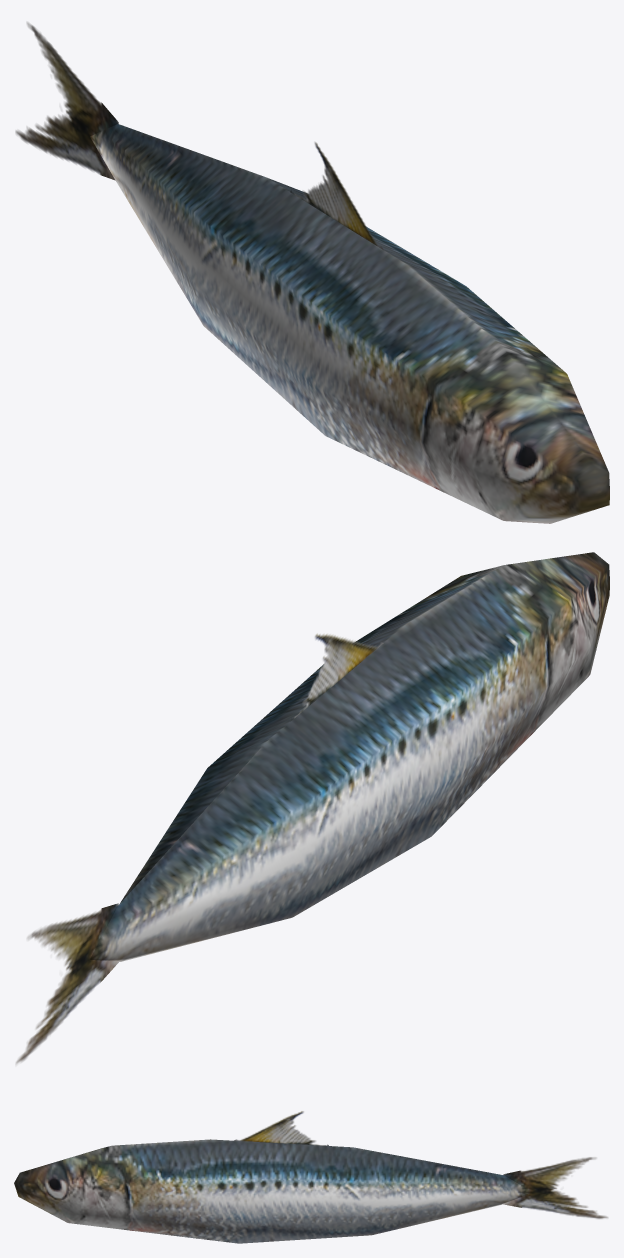
Rendered from boidModel.glb.
3 renders of one model, top to bottom at view 1: azimuth 30°, elevation 25°; view 2: azimuth 150°, elevation 25°; view 3: azimuth 270°, elevation 25°, orthographic. The views are drawn at different scales.
Parts seen in each view (by area): view 1: Cube; view 2: Cube; view 3: Cube.
Boxes of the visible parts, x1,y1,x2,y2 form: Cube: [15, 22, 609, 523]; Cube: [15, 552, 609, 1065]; Cube: [14, 1111, 608, 1243].
Bounding box in the file's own units: 0.0688 × 0.1175 × 0.4854.
Materials: 1 (1 with a texture image).
